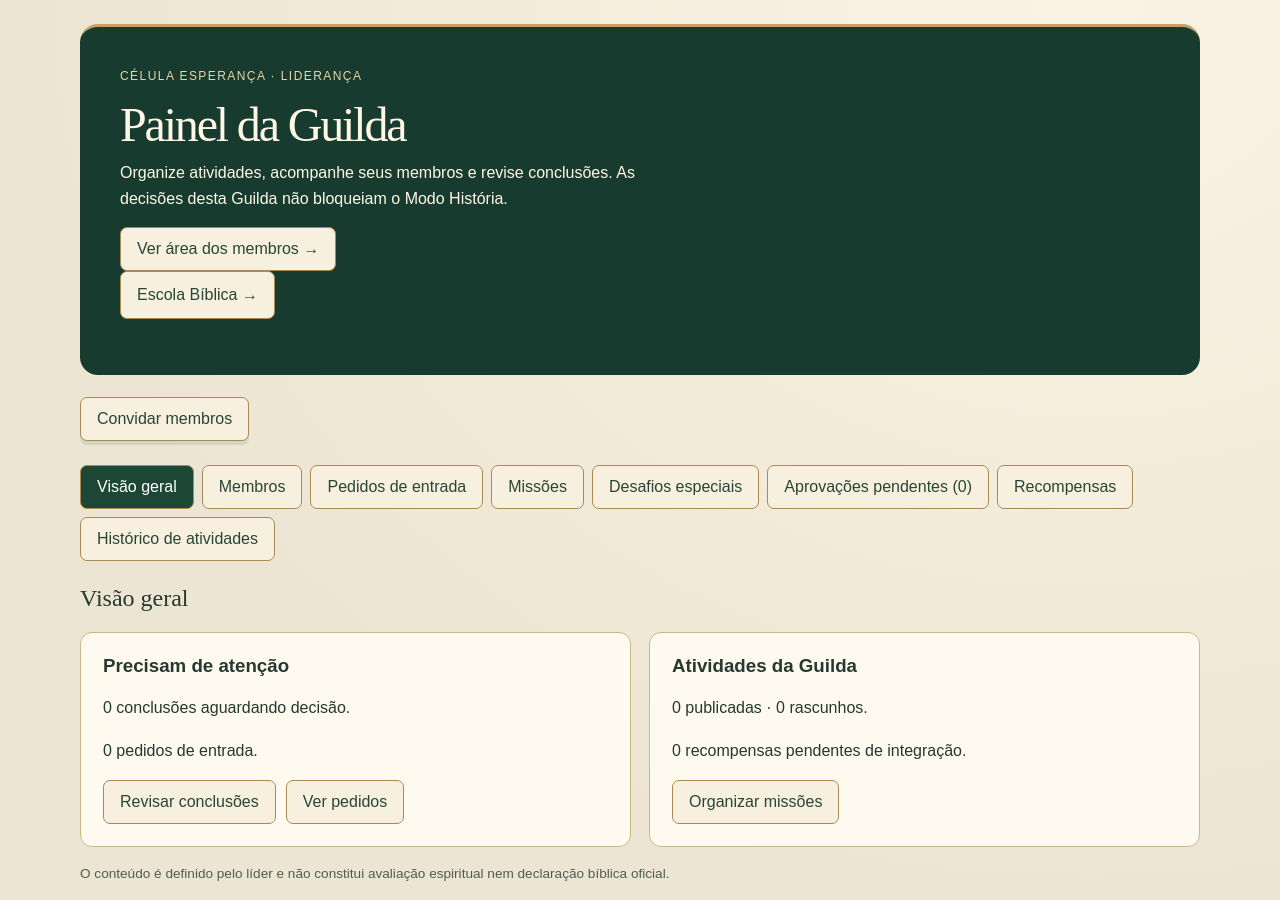
Scenario: OnlineGuildHub › management uses the new eight-area workspace and existing membership
Expected: the heading "Painel da Guilda" is shown, 120,98 -> 405,151
What coordinates should you click on to do the following:
click the button "Membros"
I would click on:
 (252, 487)
Its box is 202,465 -> 302,509.
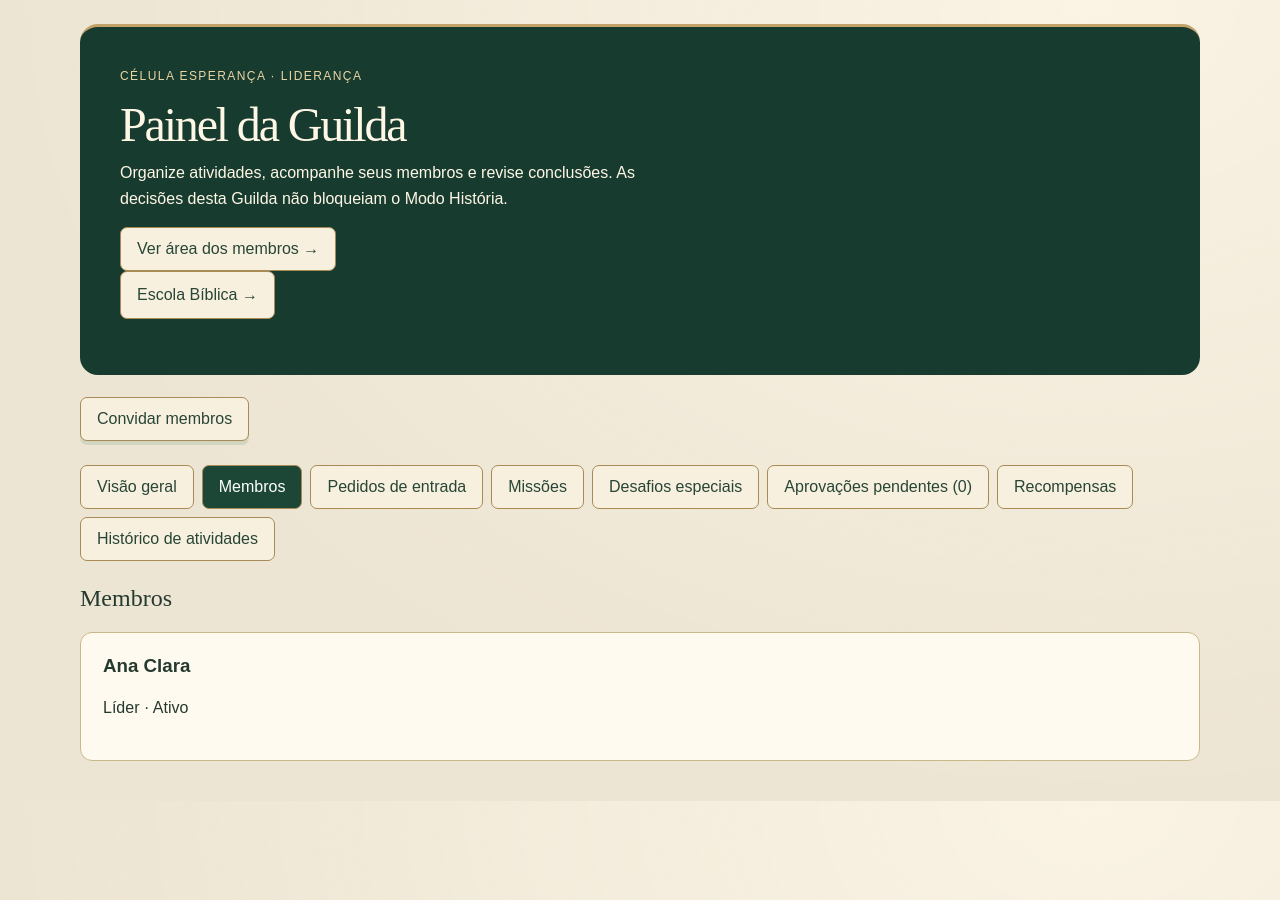
Now the heading "Ana Clara" is shown, box 103,655 -> 190,676
